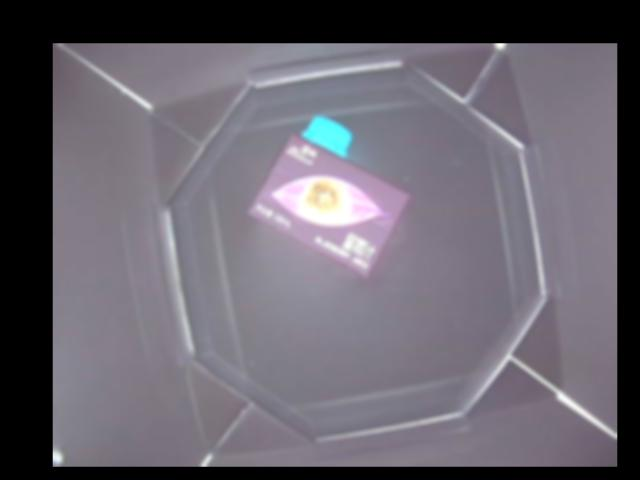Bottle: (250, 115, 410, 276)
